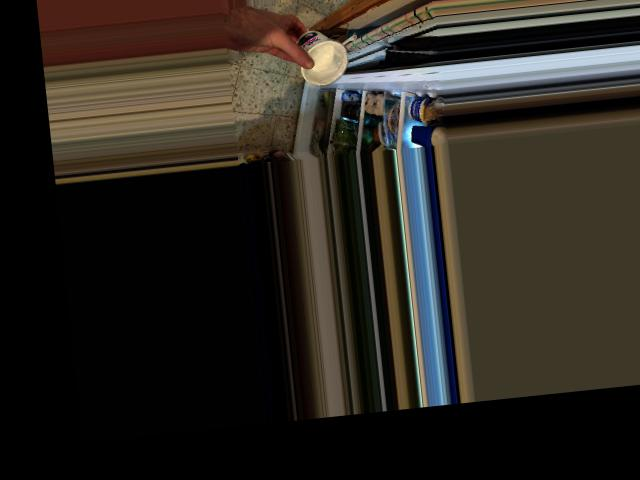cotage: (290, 22, 353, 86)
